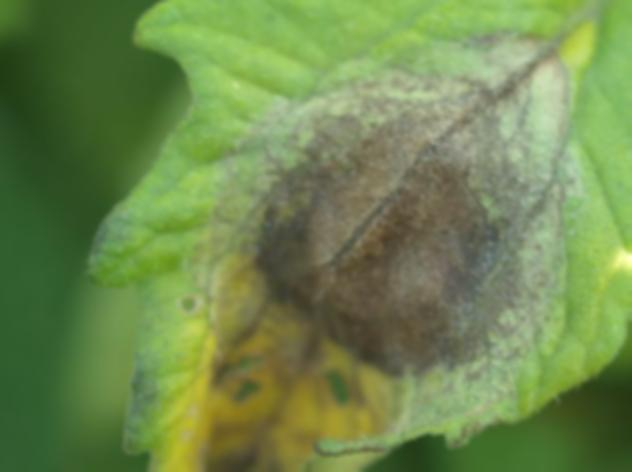Tomato leaf late blight: (47, 0, 632, 472)
